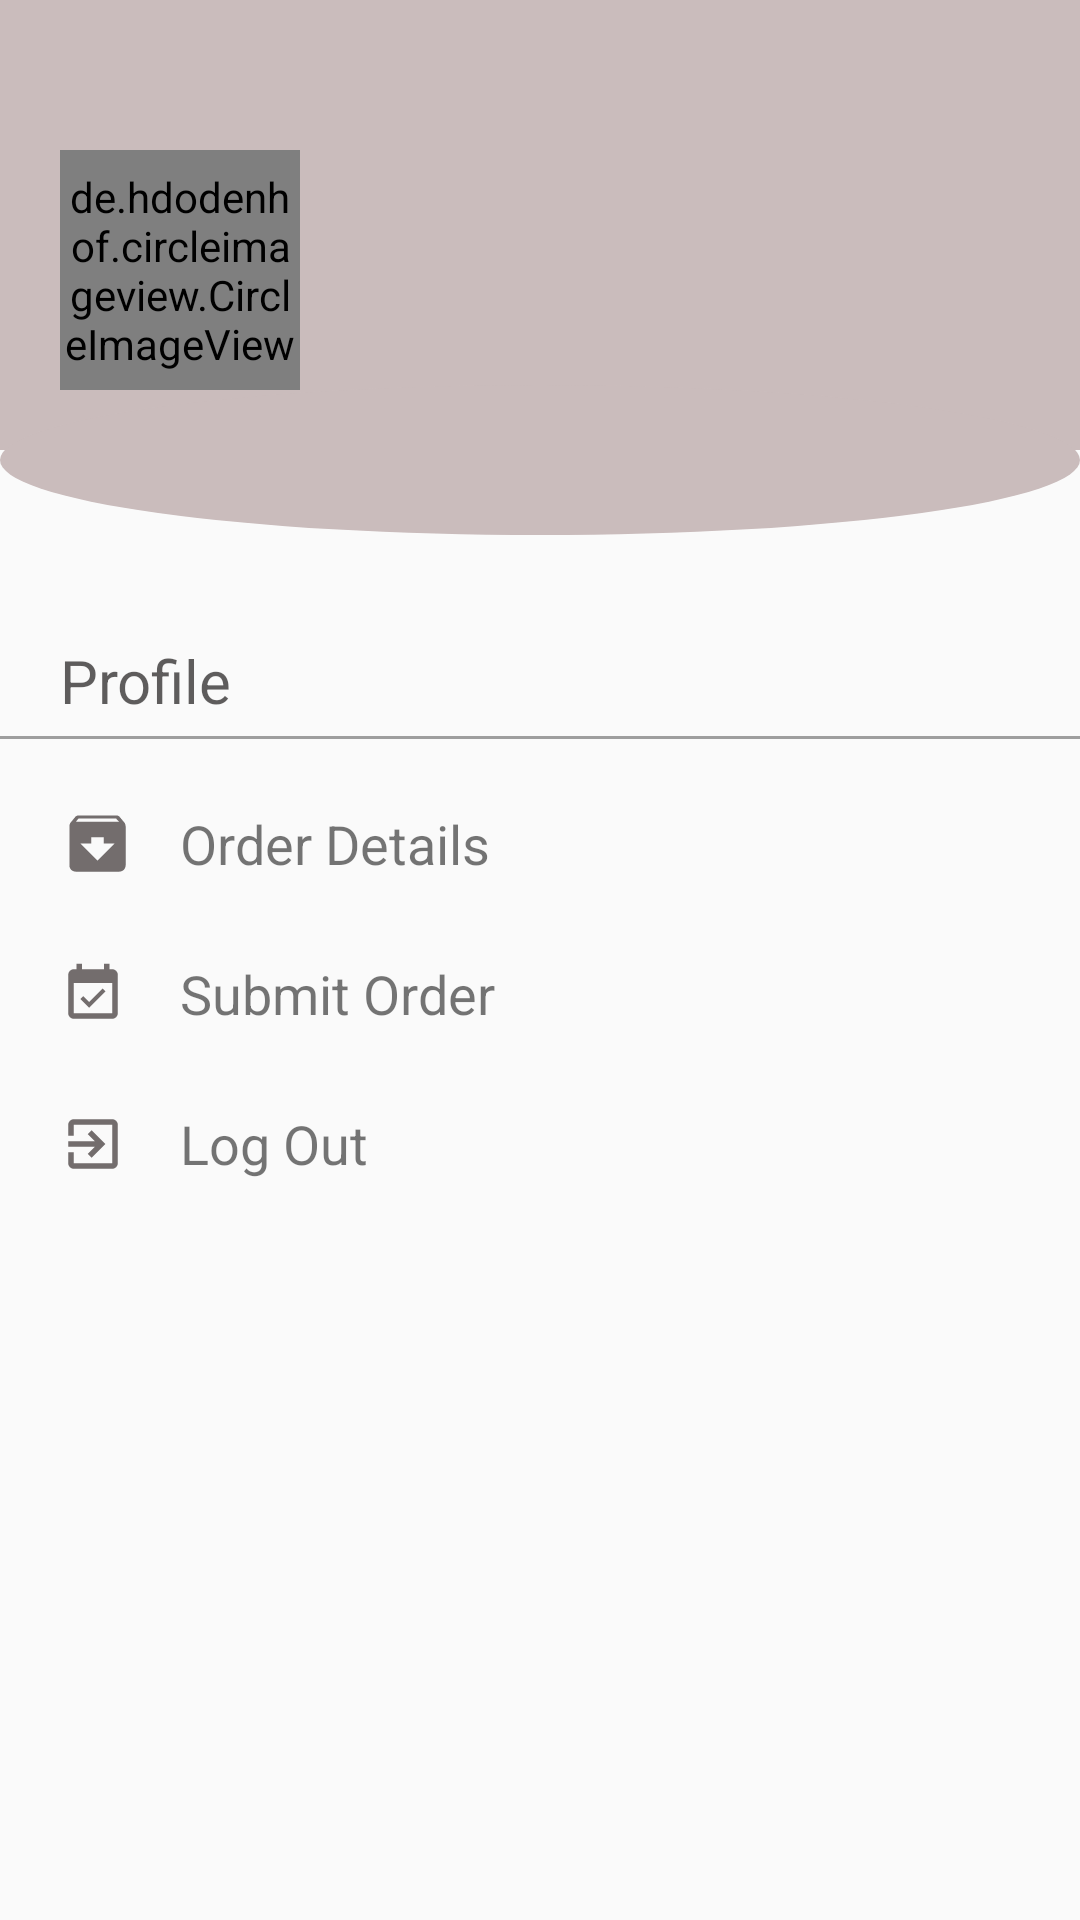

Where to tap for icons on this 1080×1920 app screen, as (x,y):
event available: (93,991)
exit to app: (93,1144)
